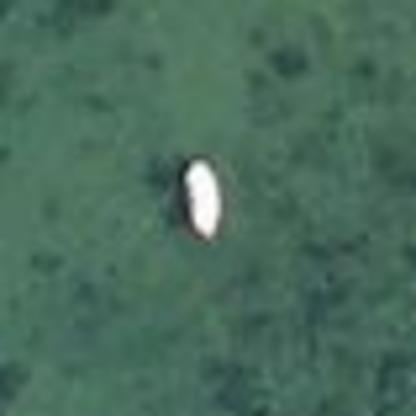ship: (168, 154, 236, 247)
